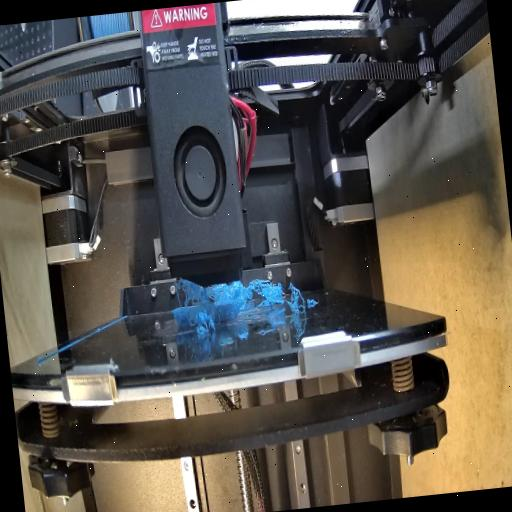spaghetti: (214, 274, 290, 312), (182, 276, 218, 338), (289, 282, 310, 316)
